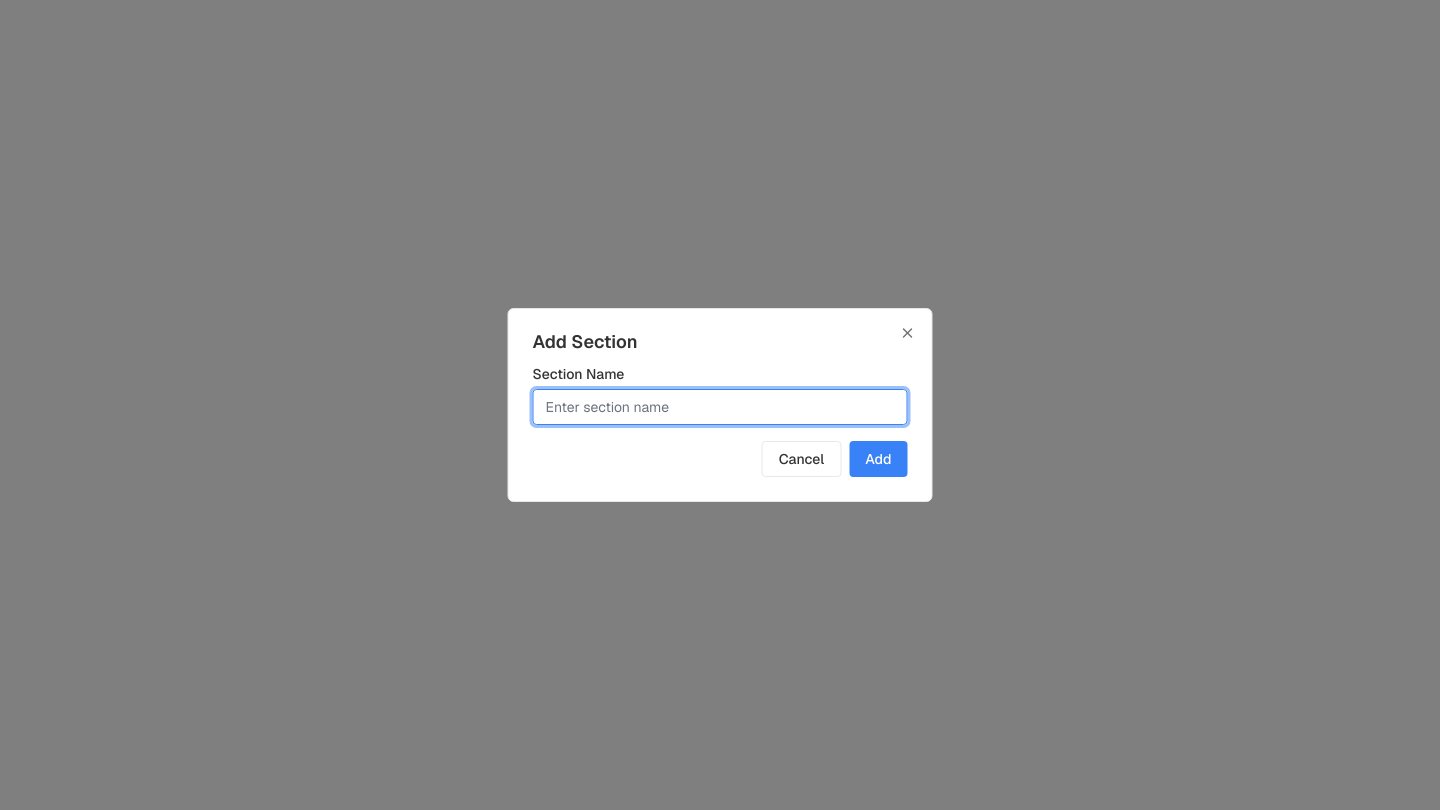
Test: SectionDialog › should show validation error when form is submitted with empty name
Step 1. Click the button "Add" → (878, 459), box [849, 441, 908, 477]
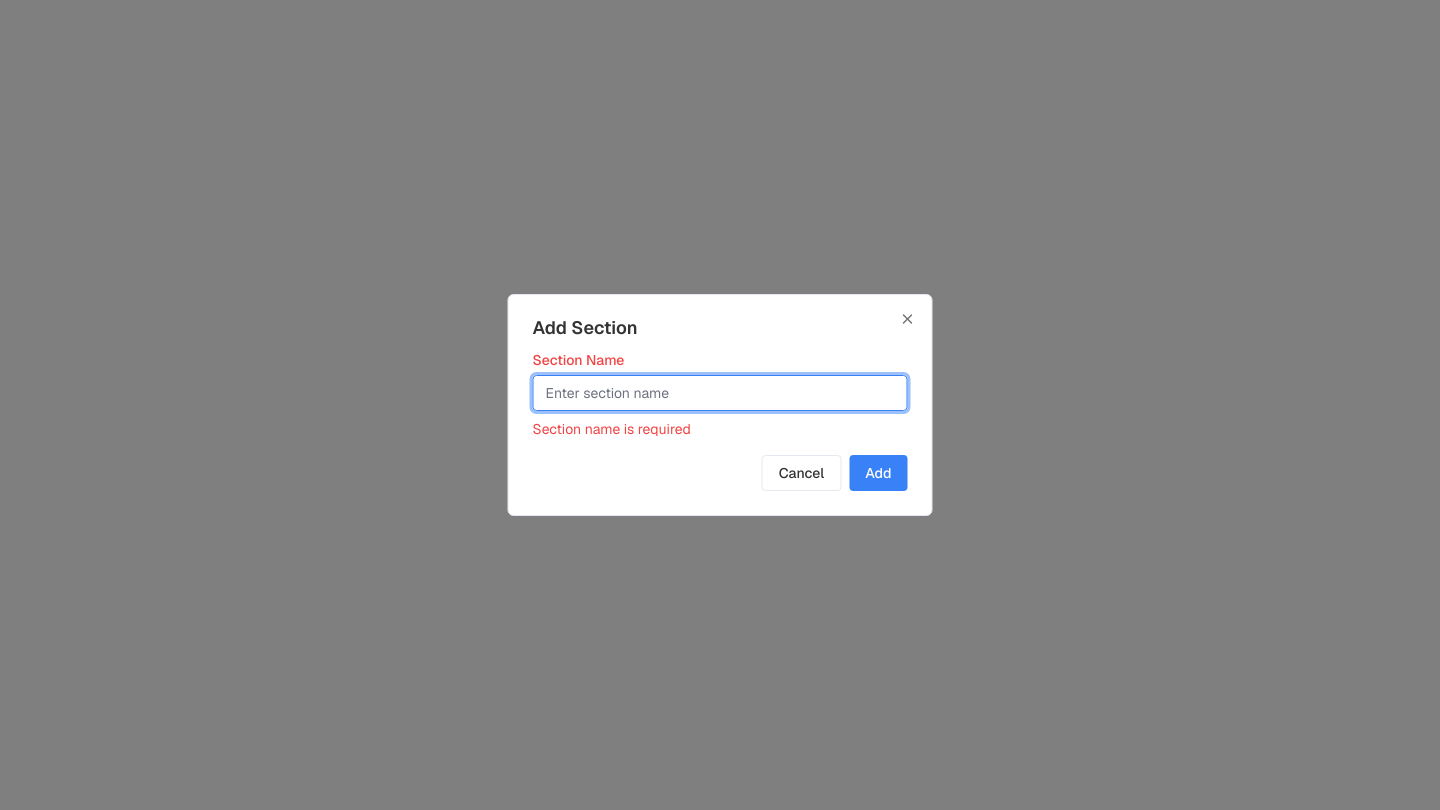
Now the text "Section name is required" is shown, box [532, 420, 691, 438]
